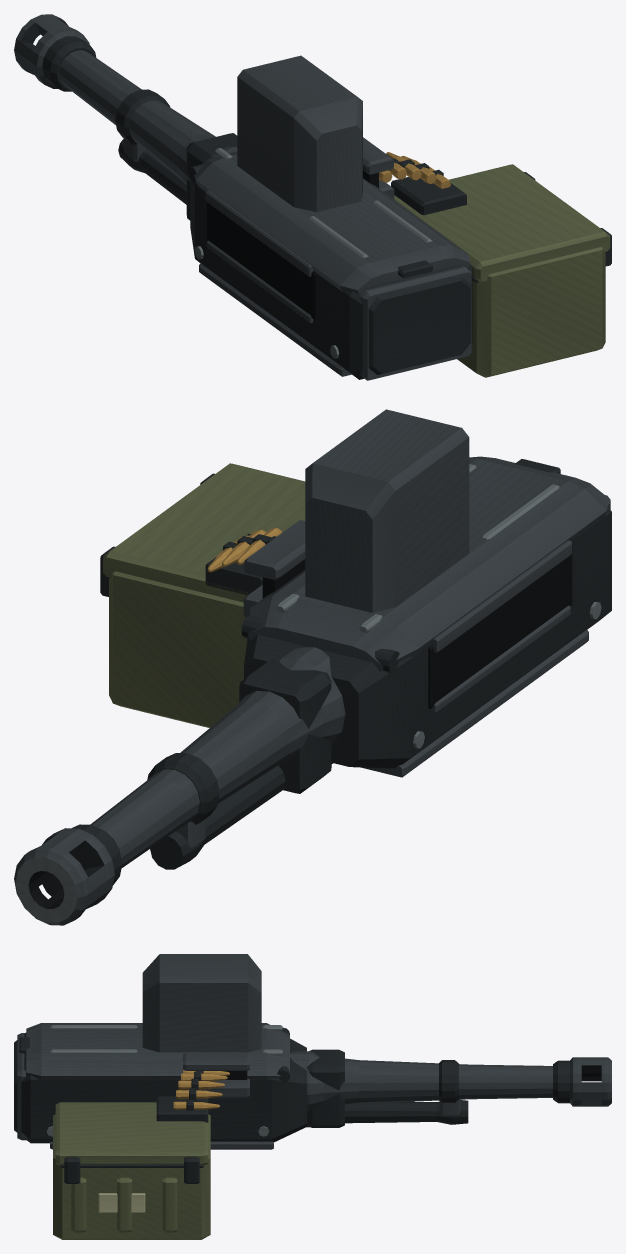
Rendered from Gun76254RAir.obj.
3 renders of one model, top to bottom at view 1: azimuth 30°, elevation 25°; view 2: azimuth 150°, elevation 25°; view 3: azimuth 270°, elevation 25°, orthographic. The views are drawn at different scales.
Parts seen in each view (by area): view 1: Receiver_crown_contact, Stamped_receiver_shell, Pressed_feed_cover, Reshaped_Gun762_feed_box_shell, Feed_box_removable_lid, Barrel_stepped_exterior, Recessed_side_panel, Rear_receiver_cap, Slotted_muzzle_shell, Box_exit_rim, Lower_receiver_seam, Pressed_panel_upper_edge (+6 smaller); view 2: Receiver_crown_contact, Pressed_feed_cover, Stamped_receiver_shell, Reshaped_Gun762_feed_box_shell, Barrel_stepped_exterior, Feed_box_removable_lid, Recessed_side_panel, Slotted_muzzle_shell, Forward_collar_bridge, Lower_forward_tube, Lower_receiver_seam, Pressed_panel_upper_edge (+6 smaller); view 3: Receiver_crown_contact, Stamped_receiver_shell, Pressed_feed_cover, Feed_box_removable_lid, Reshaped_Gun762_feed_box_shell, Barrel_stepped_exterior, Lower_forward_tube, Forward_collar_bridge, Slotted_muzzle_shell, Feed_mouth_upper_lip, Box_exit_rim, Box_pressed_rib.002 (+11 smaller).
Boxes of the visible parts, x1,y1,x2,y2 form: Receiver_crown_contact: [237, 55, 362, 212]; Stamped_receiver_shell: [190, 180, 472, 379]; Pressed_feed_cover: [194, 151, 470, 293]; Reshaped_Gun762_feed_box_shell: [457, 247, 605, 377]; Feed_box_removable_lid: [394, 164, 610, 281]; Barrel_stepped_exterior: [59, 50, 237, 184]; Recessed_side_panel: [207, 202, 317, 320]; Rear_receiver_cap: [359, 265, 471, 380]; Slotted_muzzle_shell: [14, 14, 89, 88]; Box_exit_rim: [391, 177, 466, 215]; Lower_receiver_seam: [199, 263, 351, 376]; Pressed_panel_upper_edge: [205, 190, 313, 276]; Receiver_crown_contact: [305, 409, 469, 612]; Pressed_feed_cover: [247, 456, 609, 671]; Stamped_receiver_shell: [244, 506, 611, 768]; Reshaped_Gun762_feed_box_shell: [109, 571, 247, 727]; Barrel_stepped_exterior: [90, 647, 345, 867]; Feed_box_removable_lid: [103, 463, 305, 602]; Recessed_side_panel: [428, 546, 572, 708]; Slotted_muzzle_shell: [14, 828, 114, 925]; Forward_collar_bridge: [239, 659, 331, 793]; Lower_forward_tube: [150, 763, 332, 869]; Lower_receiver_seam: [360, 630, 588, 777]; Pressed_panel_upper_edge: [432, 540, 571, 652]; Receiver_crown_contact: [142, 954, 261, 1052]; Stamped_receiver_shell: [14, 1032, 306, 1143]; Pressed_feed_cover: [26, 1023, 289, 1080]; Feed_box_removable_lid: [55, 1102, 208, 1165]; Reshaped_Gun762_feed_box_shell: [53, 1114, 210, 1239]; Barrel_stepped_exterior: [290, 1051, 552, 1110]; Lower_forward_tube: [306, 1100, 468, 1127]; Forward_collar_bridge: [306, 1049, 344, 1127]; Slotted_muzzle_shell: [570, 1057, 611, 1106]; Feed_mouth_upper_lip: [183, 1053, 249, 1070]; Box_exit_rim: [156, 1096, 208, 1122]; Box_pressed_rib.002: [162, 1177, 177, 1232].
Bounding box in the file's own units: 0.53 × 0.437 × 1.21.
